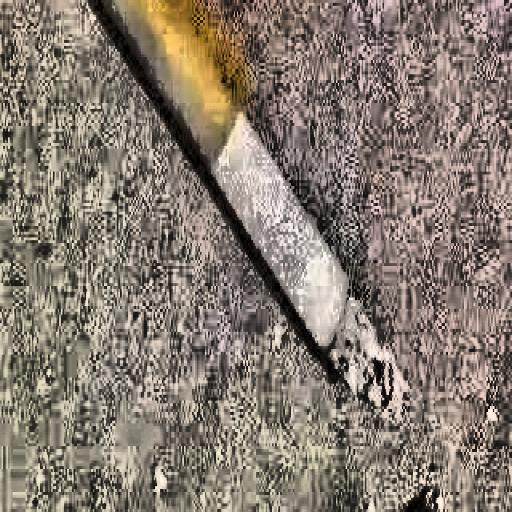Merokok: (90, 0, 403, 409)
